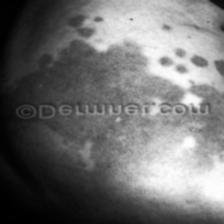Unclassified: (170, 119, 224, 170), (162, 51, 208, 72)
